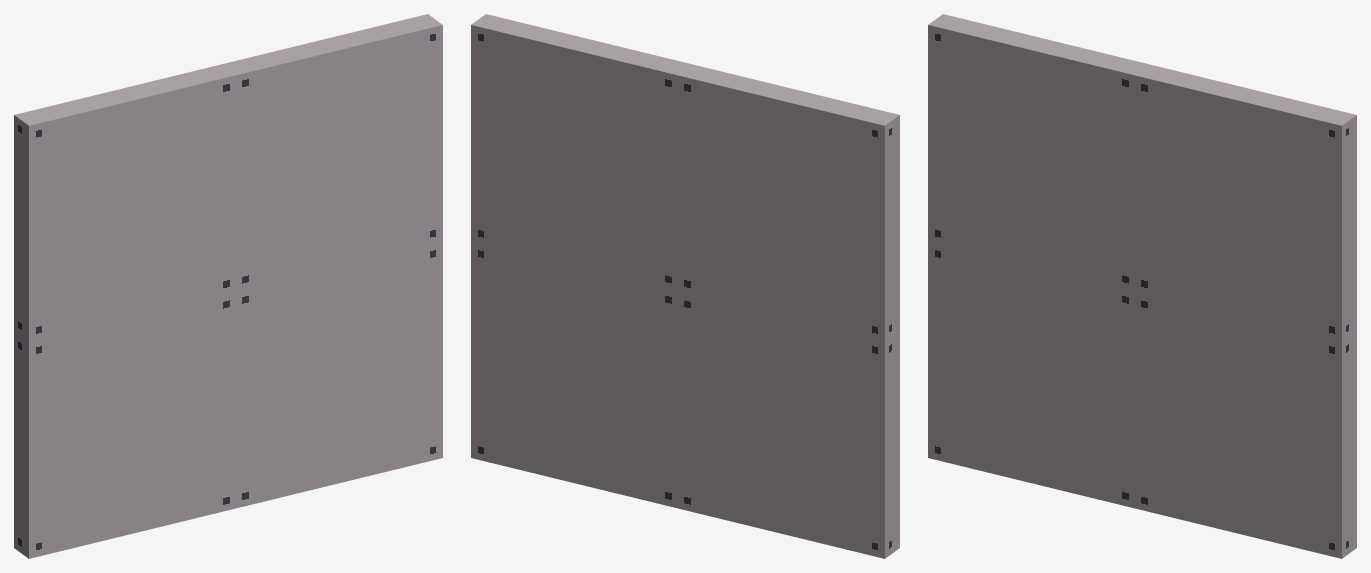
Rendered from wall_textured_d_4_col.gltf.
The picture shows the model from 3 angles, left to right: view 1: azimuth 30°, elevation 25°; view 2: azimuth 150°, elevation 25°; view 3: azimuth 330°, elevation 25°; orthographic projection.
Parts seen in each view (by area): view 1: wall_textured_d_4_col; view 2: wall_textured_d_4_col; view 3: wall_textured_d_4_col.
Part boxes in pixels (x1,y1,x2,y2): wall_textured_d_4_col: [14, 14, 442, 558]; wall_textured_d_4_col: [471, 14, 899, 558]; wall_textured_d_4_col: [928, 14, 1356, 558].
Size of the model in its own units: 4 by 4 by 0.25.
1 material, 1 textured.
